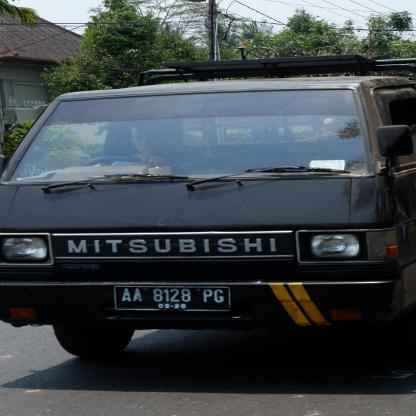Plat-Nomor: (110, 282, 234, 316)
